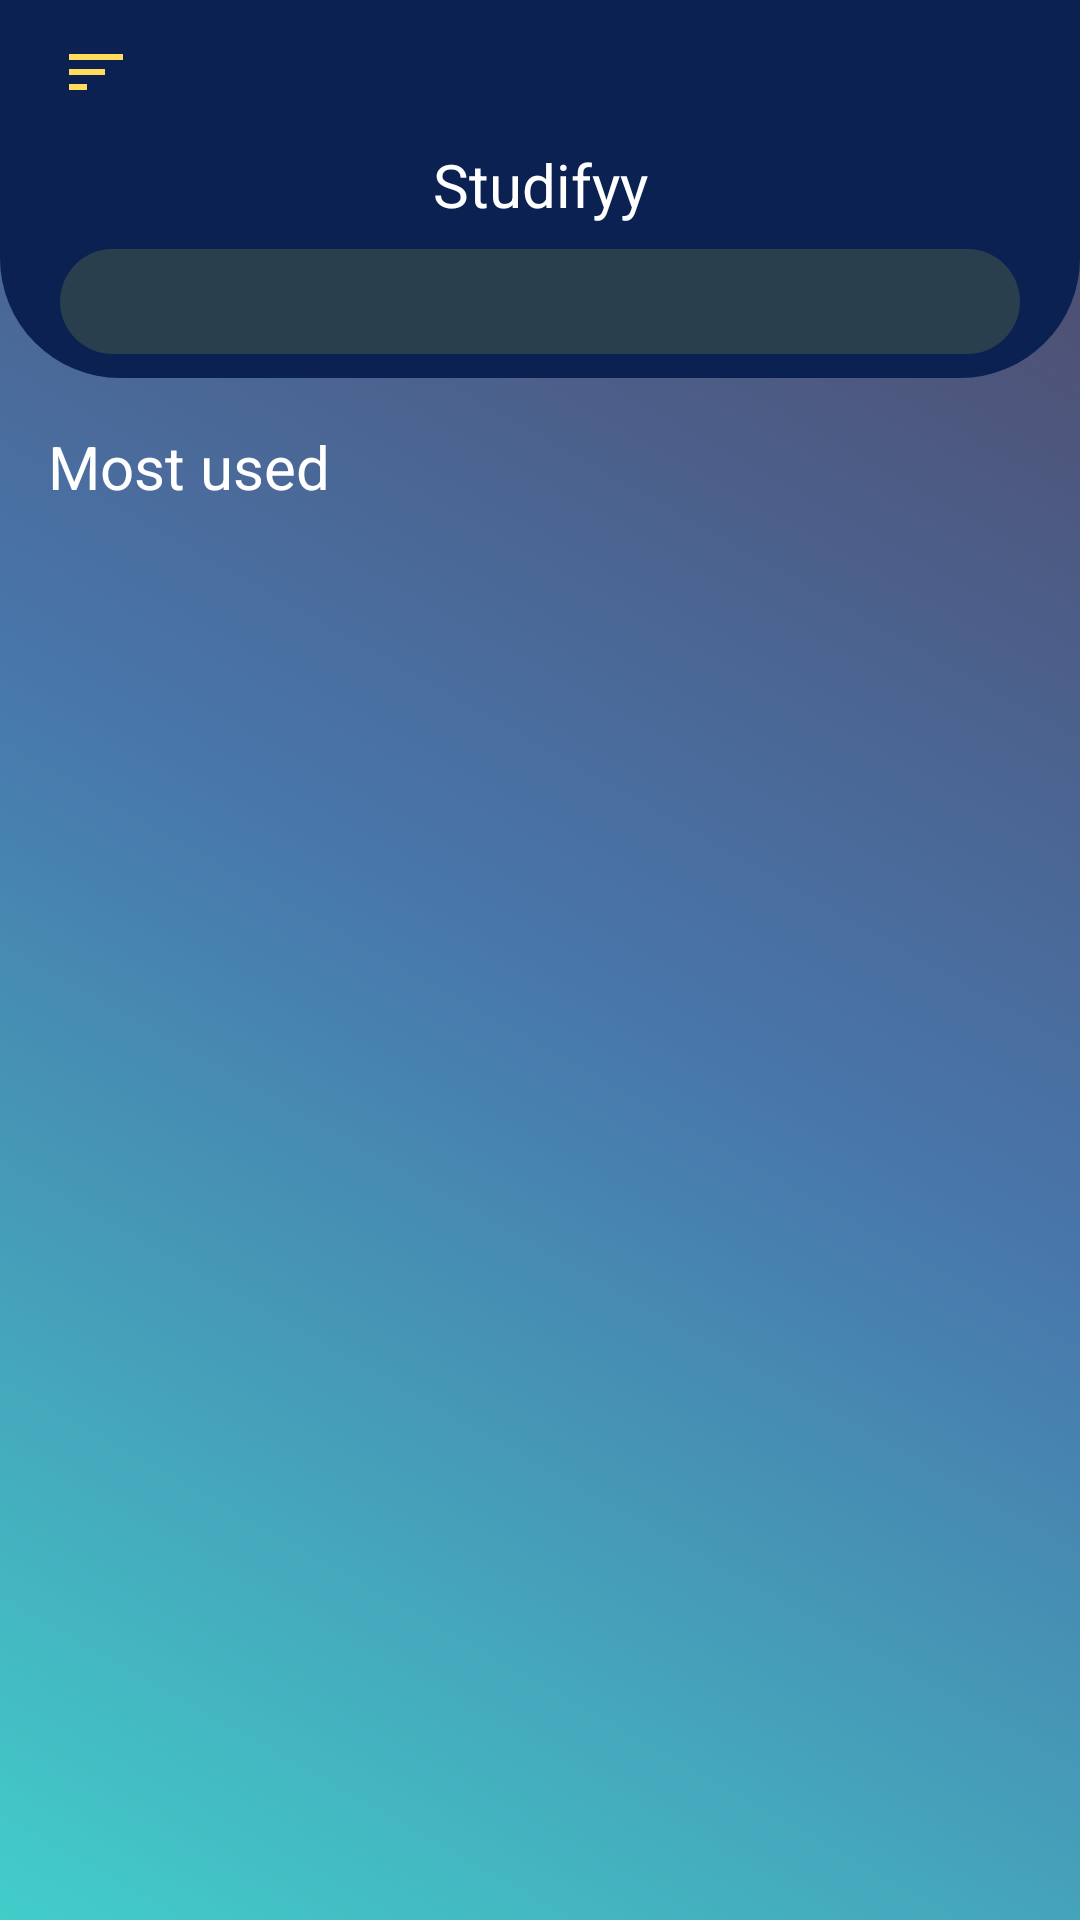

Point at icon controls on the screen. Image size 1080 x 1920, points as [x,y].
sort: [96,72]
